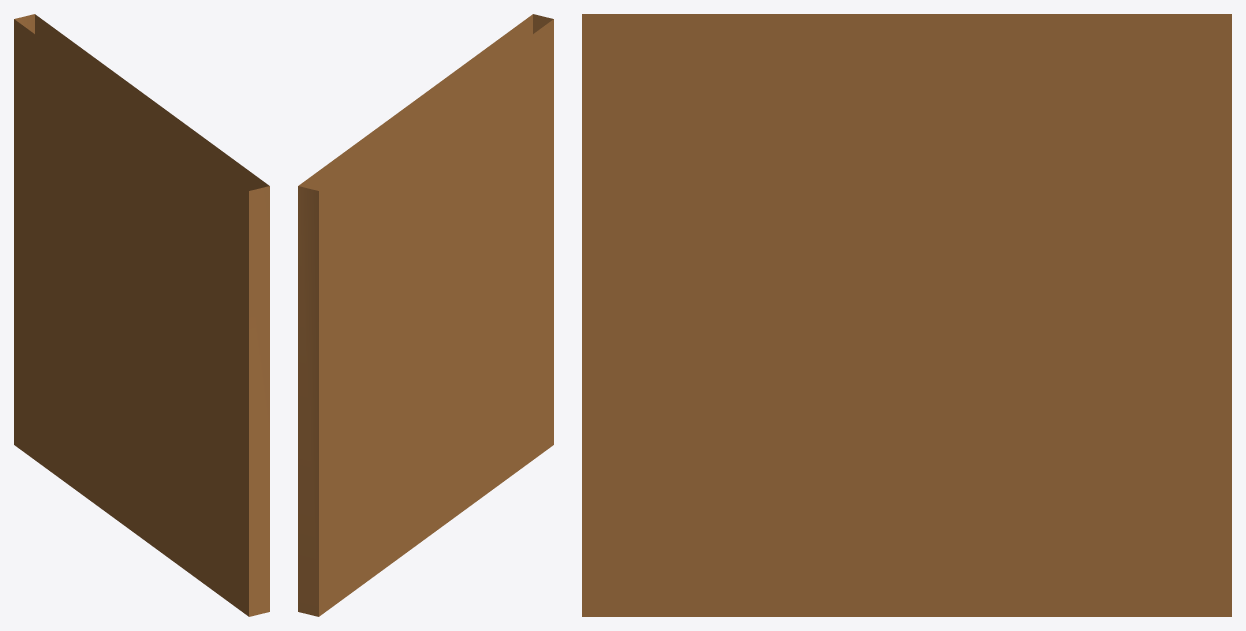
File: BirdHouse_Wall-R.fbx
3 renders of one model, left to right at view 1: azimuth 30°, elevation 25°; view 2: azimuth 150°, elevation 25°; view 3: azimuth 270°, elevation 25°, orthographic. The views are drawn at different scales.
Visible parts, largest first — view 1: WandRechts; view 2: WandRechts; view 3: WandRechts.
Boxes of the visible parts, x1=… form: WandRechts: x1=14, y1=14, x2=269, y2=616; WandRechts: x1=298, y1=14, x2=553, y2=616; WandRechts: x1=582, y1=14, x2=1231, y2=616.
Bounding box in the file's own units: 30.52 × 600 × 600.
